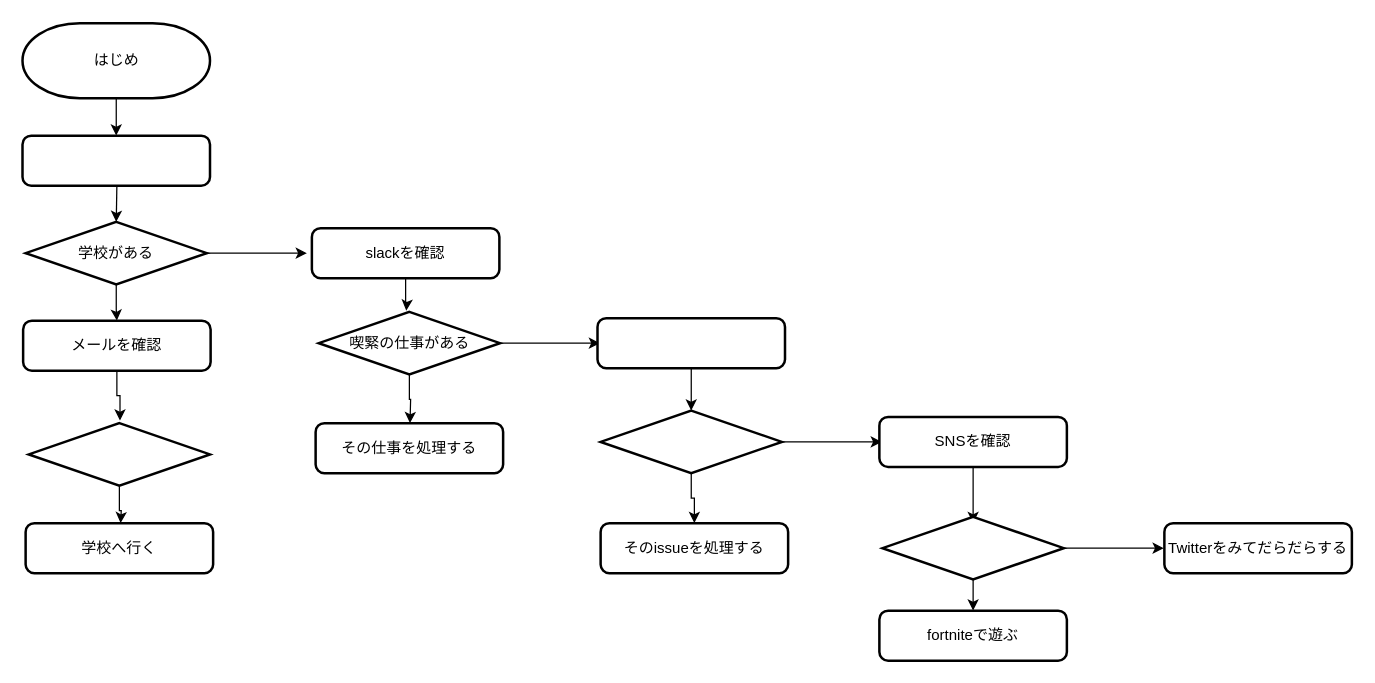
Image size: 1375x683. Some labels were removed from this diagram. Each missing label, with the box of its shape:
fortniteの誘いがある: (881, 515, 1064, 580)
githubを確認: (596, 316, 786, 369)
issueがある: (599, 409, 782, 474)
休講がない: (27, 421, 211, 486)
曜日を確認: (21, 134, 211, 186)
